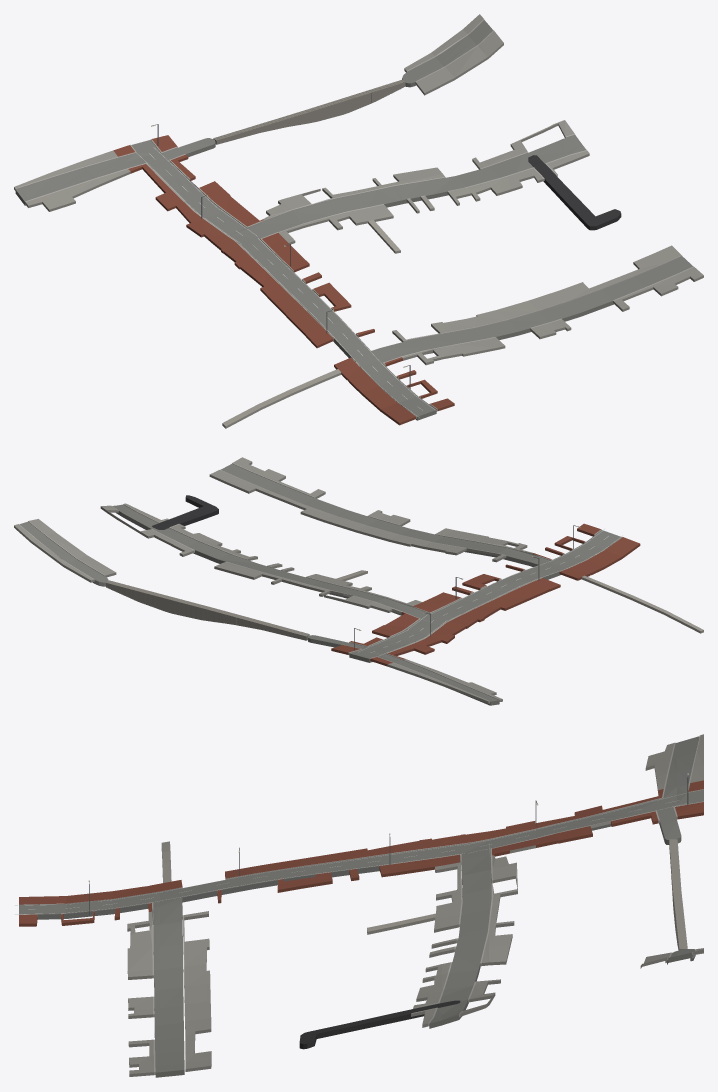
3 views of the same model, one above another, from view 1: azimuth 30°, elevation 25°; view 2: azimuth 150°, elevation 25°; view 3: azimuth 270°, elevation 25° (orthographic). The views are drawn at different scales.
Size of the model in its own units: 147 by 44.04 by 147.
